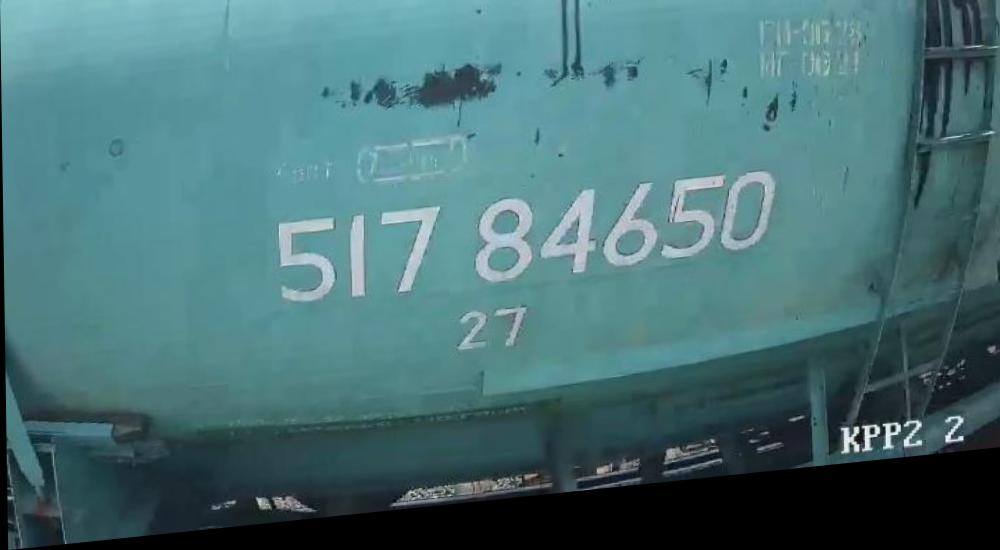Wagon-number: (267, 181, 788, 320)
